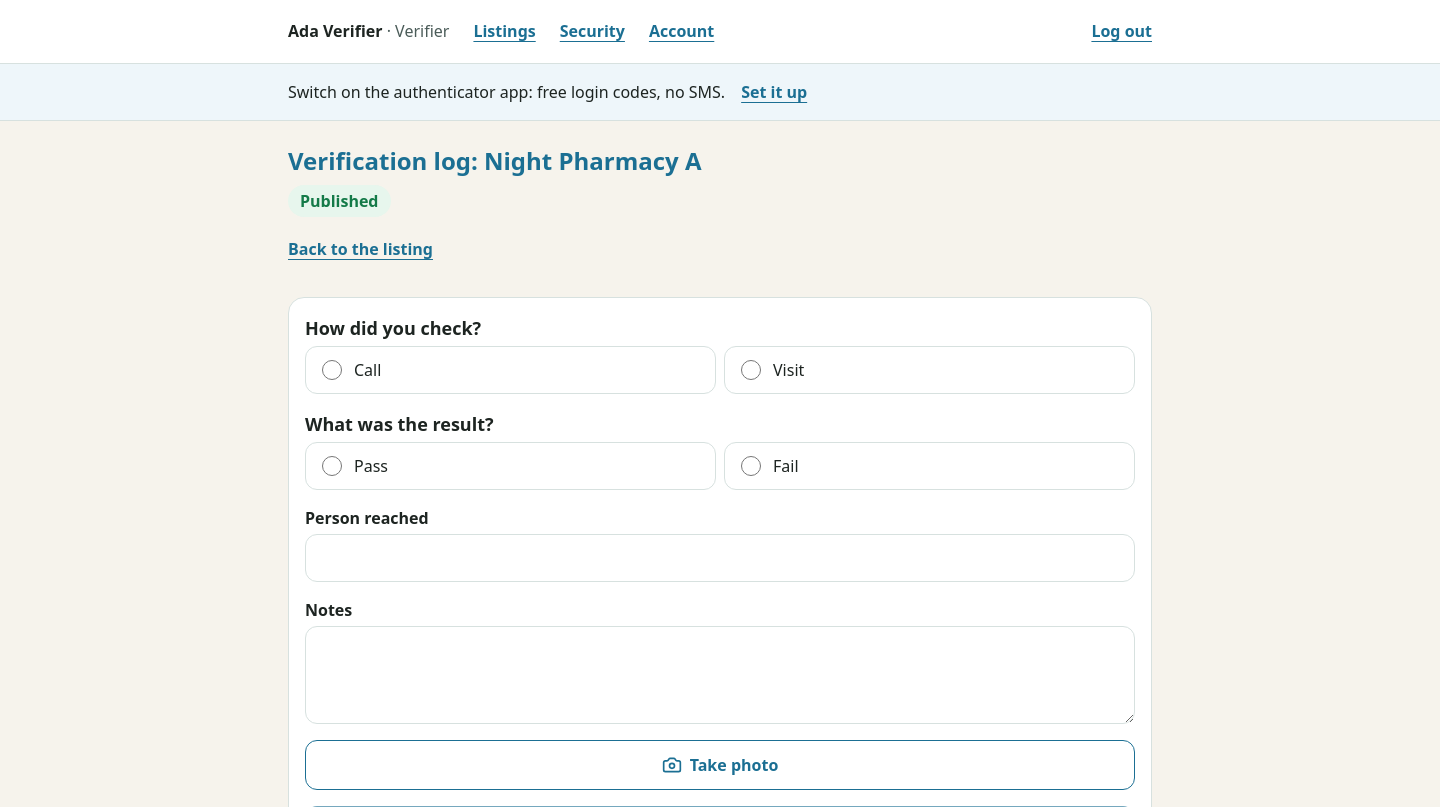
Test: the verification log › says a failed check hid a published listing, and shows the new status
Expected: the heading "Verification log: Night Pharmacy A" is shown, [288,144,702,177]
Click the radio button labelled "Call". click: (332,370)
box: [322,360,342,380]
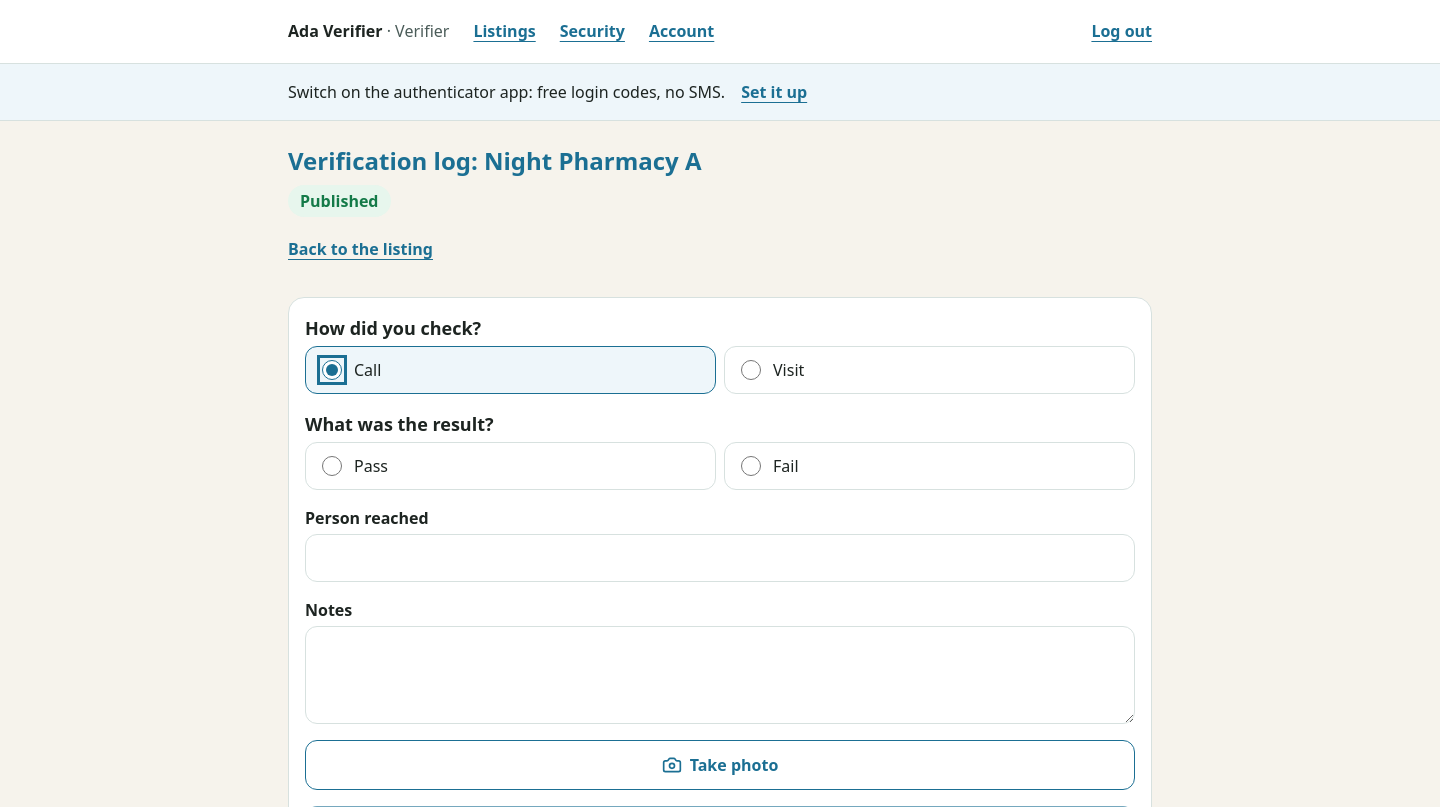
Click the radio button labelled "Fail". click: (751,466)
box: [741,456,761,476]
(page scrolled)
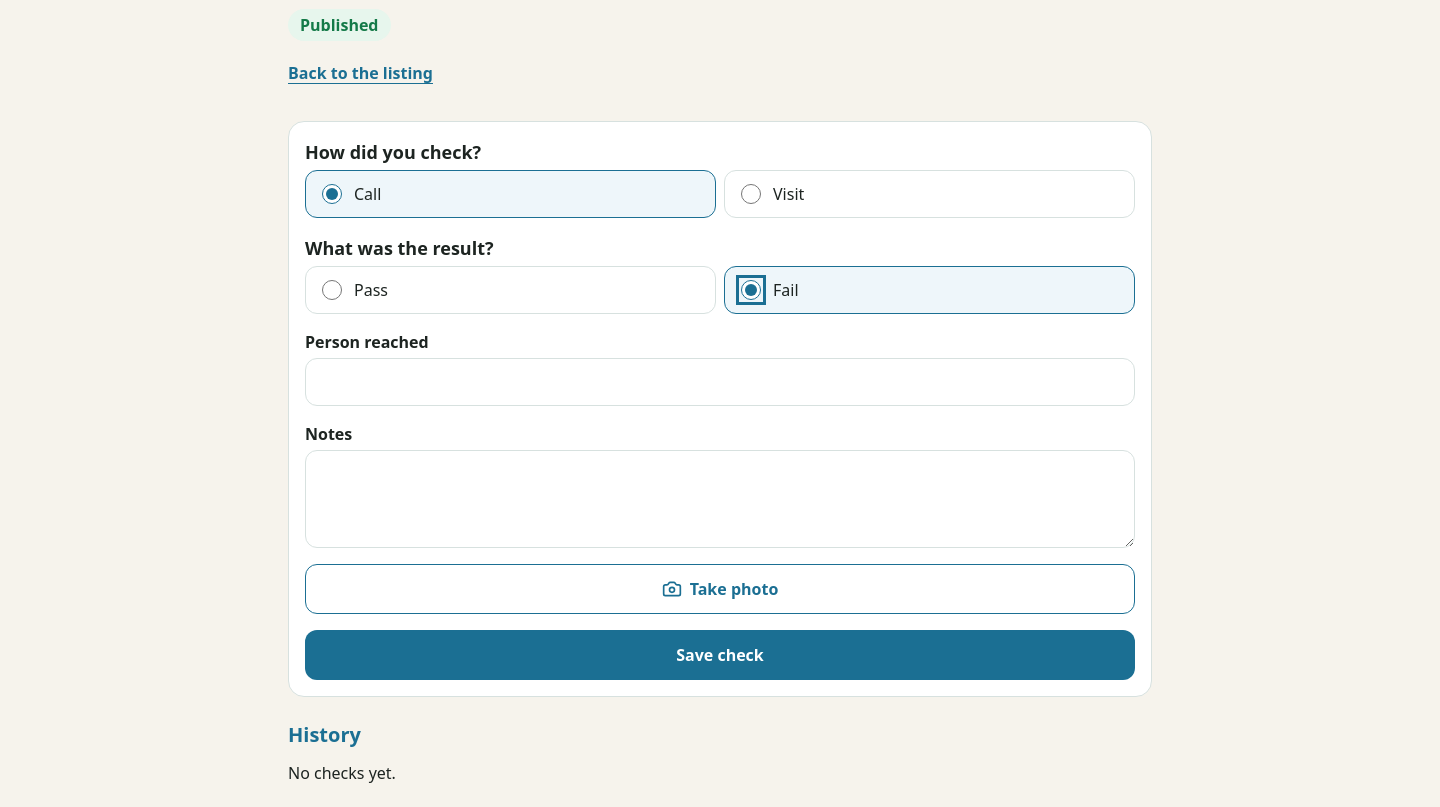
Click the button "Save check". click: (720,655)
box: [305,630,1135,680]
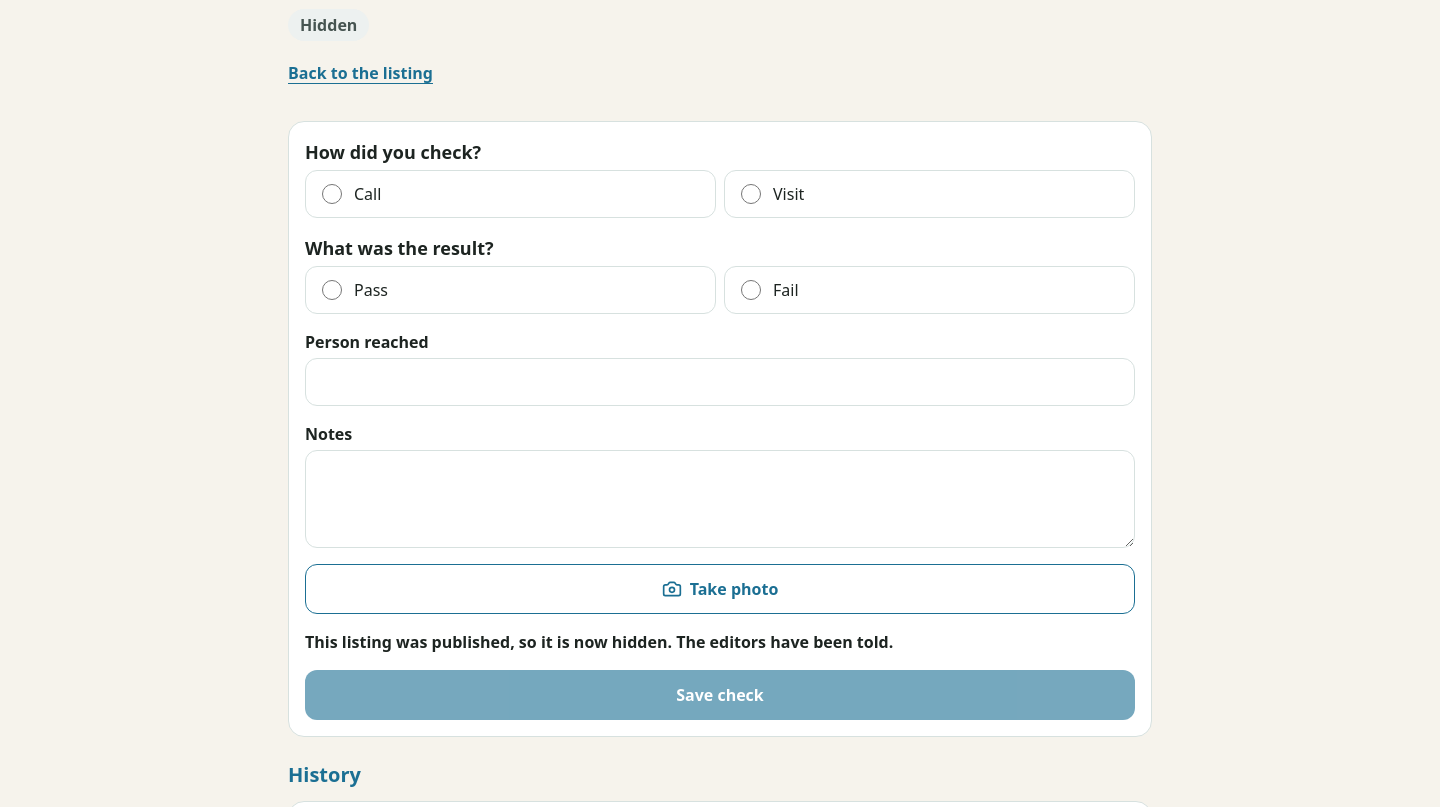
Expected: the text "This listing was published, so it is now hidden. The editors have been told." is shown, [305,631,893,653]
